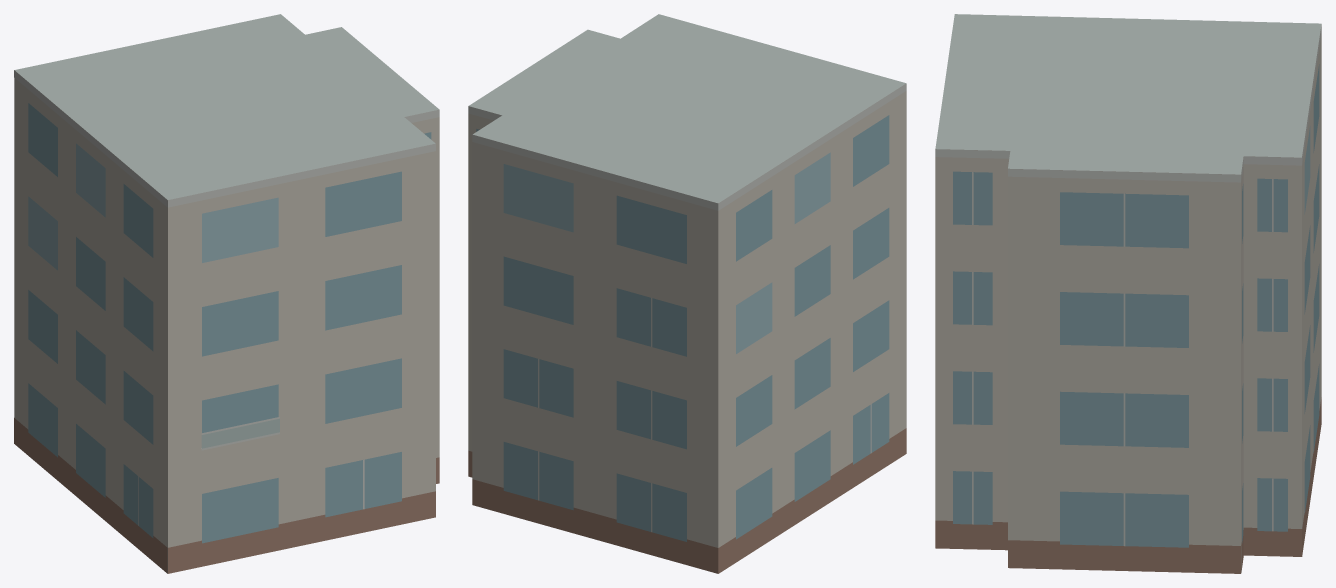
Rendered from survey-upis-32811503.glb.
3 views of the same model, side by side, from view 1: azimuth 30°, elevation 25°; view 2: azimuth 150°, elevation 25°; view 3: azimuth 270°, elevation 25° (orthographic). The views are drawn at different scales.
Visible parts, largest first — view 1: survey-upis-32811503.tmp; view 2: survey-upis-32811503.tmp; view 3: survey-upis-32811503.tmp.
Part boxes in pixels (<box>): survey-upis-32811503.tmp: <box>14,14,439,573</box>; survey-upis-32811503.tmp: <box>468,14,906,573</box>; survey-upis-32811503.tmp: <box>935,14,1321,573</box>.
Bounding box in the file's own units: 10.53 × 12.2 × 10.71.
